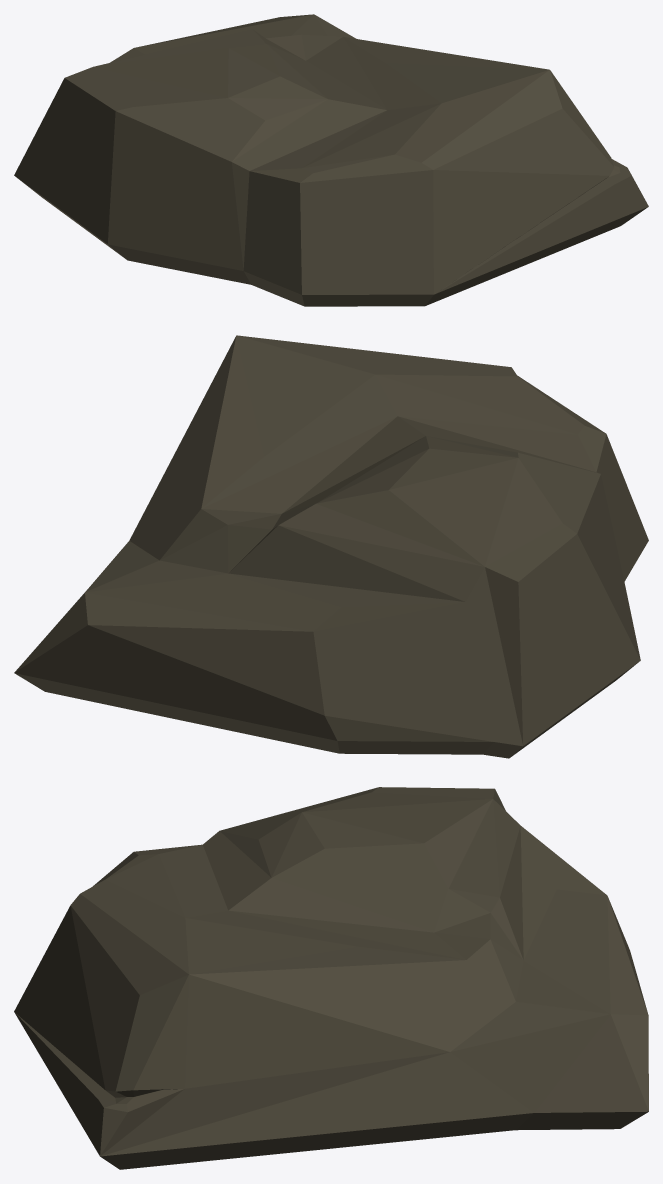
File: rock__rock7_cave_dark.glb
The picture shows the model from 3 angles, top to bottom: view 1: azimuth 30°, elevation 25°; view 2: azimuth 150°, elevation 25°; view 3: azimuth 270°, elevation 25°; orthographic projection. The views are drawn at different scales.
Parts seen in each view (by area): view 1: rock7.cave.dark; view 2: rock7.cave.dark; view 3: rock7.cave.dark.
Part boxes in pixels (left/top/right/bottom): rock7.cave.dark: left=14, top=14, right=648, bottom=306; rock7.cave.dark: left=14, top=335, right=648, bottom=758; rock7.cave.dark: left=14, top=787, right=648, bottom=1169.
Size of the model in its own units: 3.3 by 1.06 by 3.46.
1 material, 1 textured.
